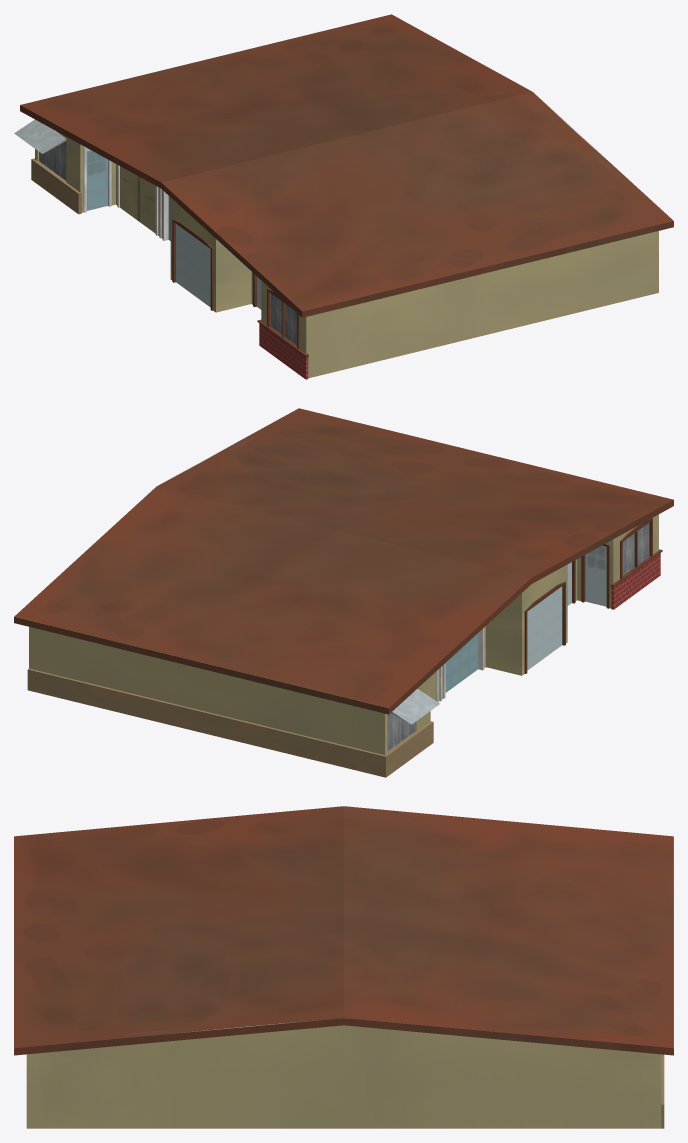
File: house.gltf
3 views of the same model, one above another, from view 1: azimuth 30°, elevation 25°; view 2: azimuth 150°, elevation 25°; view 3: azimuth 270°, elevation 25° (orthographic). The views are drawn at different scales.
Parts seen in each view (by area): view 1: house; view 2: house; view 3: house.
Boxes of the visible parts, bbox=[...] form: house: bbox=[14, 14, 673, 379]; house: bbox=[14, 408, 673, 777]; house: bbox=[14, 806, 673, 1128].
Size of the model in its own units: 16.25 by 4 by 20.6.
1 material, 1 textured.
